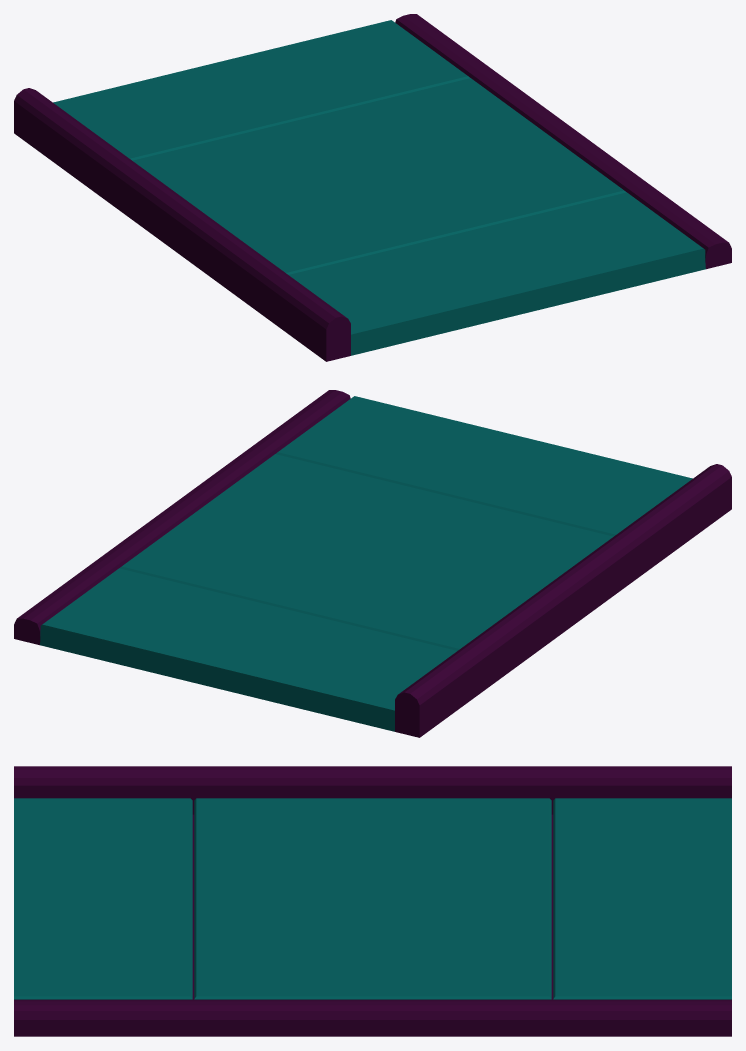
Rendered from sidewalk.obj.
3 views of the same model, one above another, from view 1: azimuth 30°, elevation 25°; view 2: azimuth 150°, elevation 25°; view 3: azimuth 270°, elevation 25° (orthographic). The views are drawn at different scales.
Parts seen in each view (by area): view 1: Cube.014_Cube.026; view 2: Cube.014_Cube.026; view 3: Cube.014_Cube.026.
Boxes of the visible parts, x1,y1,x2,y2 form: Cube.014_Cube.026: [14, 14, 731, 361]; Cube.014_Cube.026: [14, 390, 731, 737]; Cube.014_Cube.026: [14, 766, 731, 1036].
Size of the model in its own units: 6 by 0.59 by 8.
